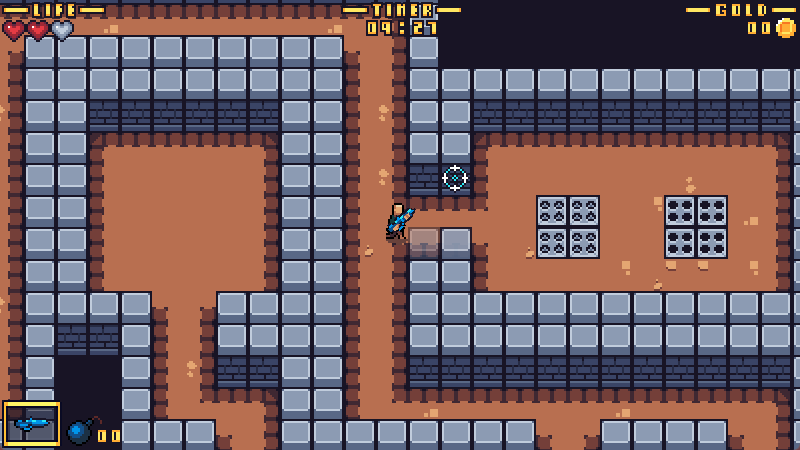aim: (443, 166, 468, 192)
bomb_counter_0: (68, 415, 121, 450)
gold_counter: (686, 1, 800, 40)
health-2: (1, 19, 75, 42)
player: (385, 202, 415, 242)
timer: (343, 1, 460, 35)
trap_off: (665, 194, 729, 259)
trap_warning: (538, 195, 601, 259)
